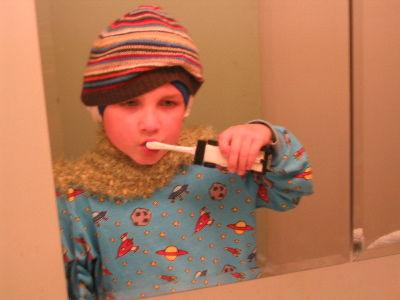person: (53, 4, 315, 300)
